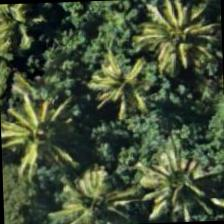Kelapa_Sawit: (74, 41, 168, 134), (0, 76, 86, 170), (131, 0, 223, 84), (139, 134, 223, 224), (129, 0, 223, 79), (24, 148, 118, 223), (0, 2, 67, 76)
